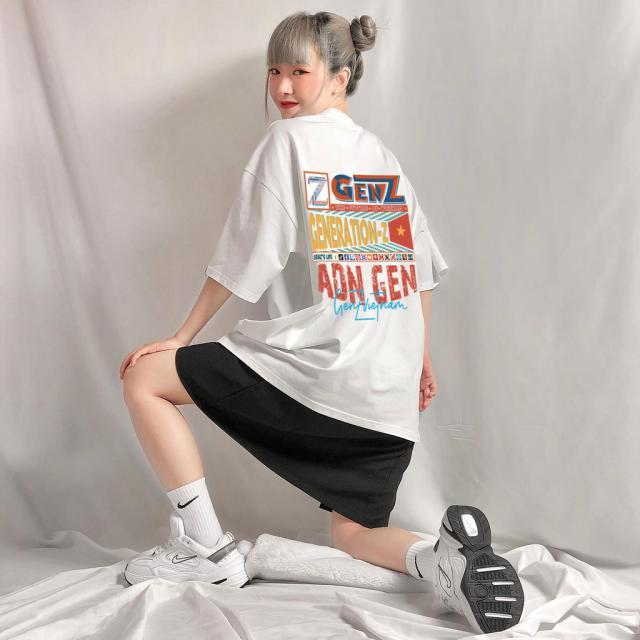Shirt: (204, 112, 454, 447)
